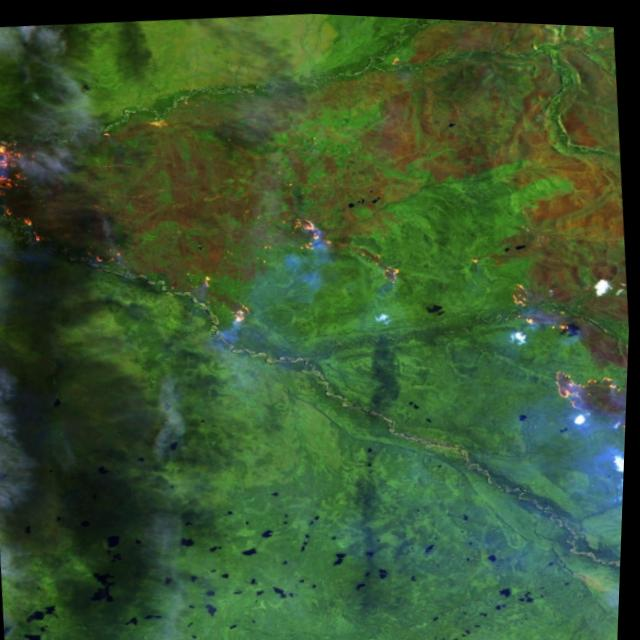fire: (490, 259, 633, 463), (280, 192, 413, 298), (0, 130, 67, 252), (191, 262, 266, 330), (134, 106, 187, 146)
